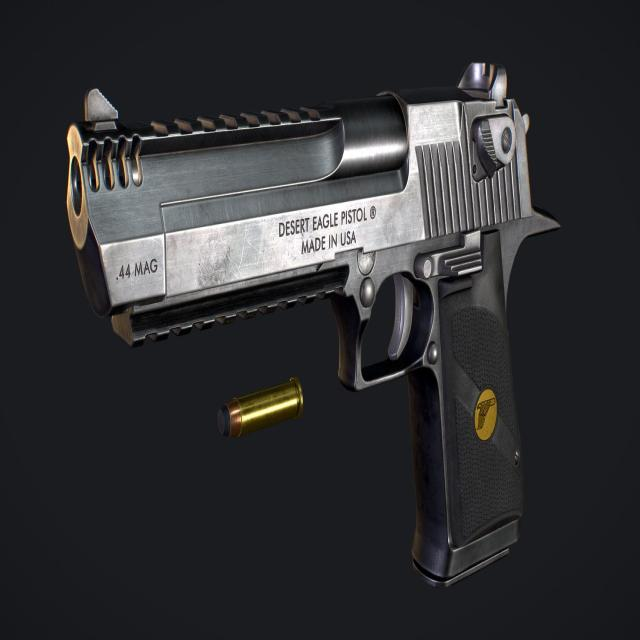handgun: (61, 64, 540, 589)
